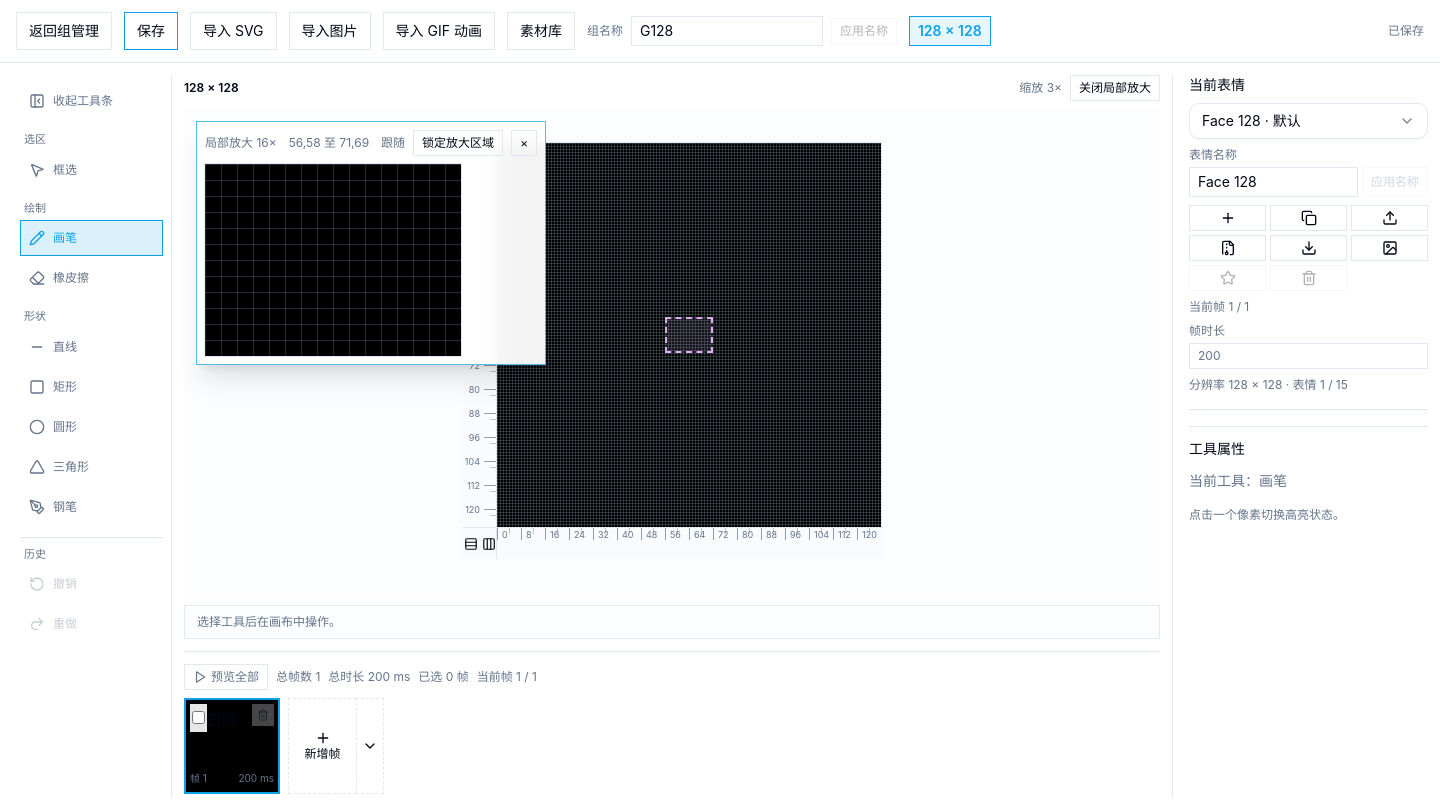
Test: imports a face item with the same resolution even when the profile id was renamed
The image size is (1440, 810).
Click the button named "导入单个表情".
click(1390, 218)  # box [1351,205,1428,231]
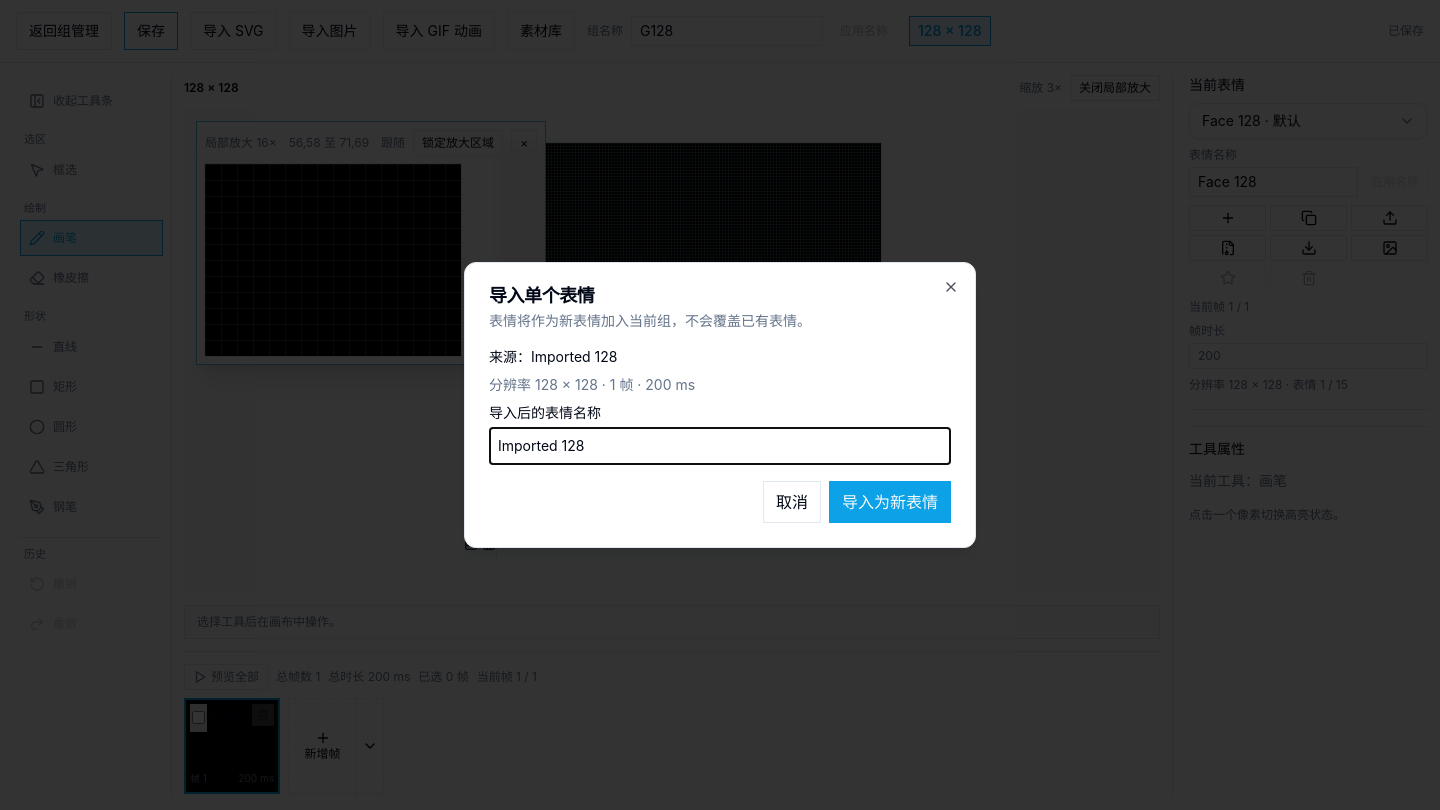
Result: the dialog "导入单个表情" is shown at [464,262,976,548]
